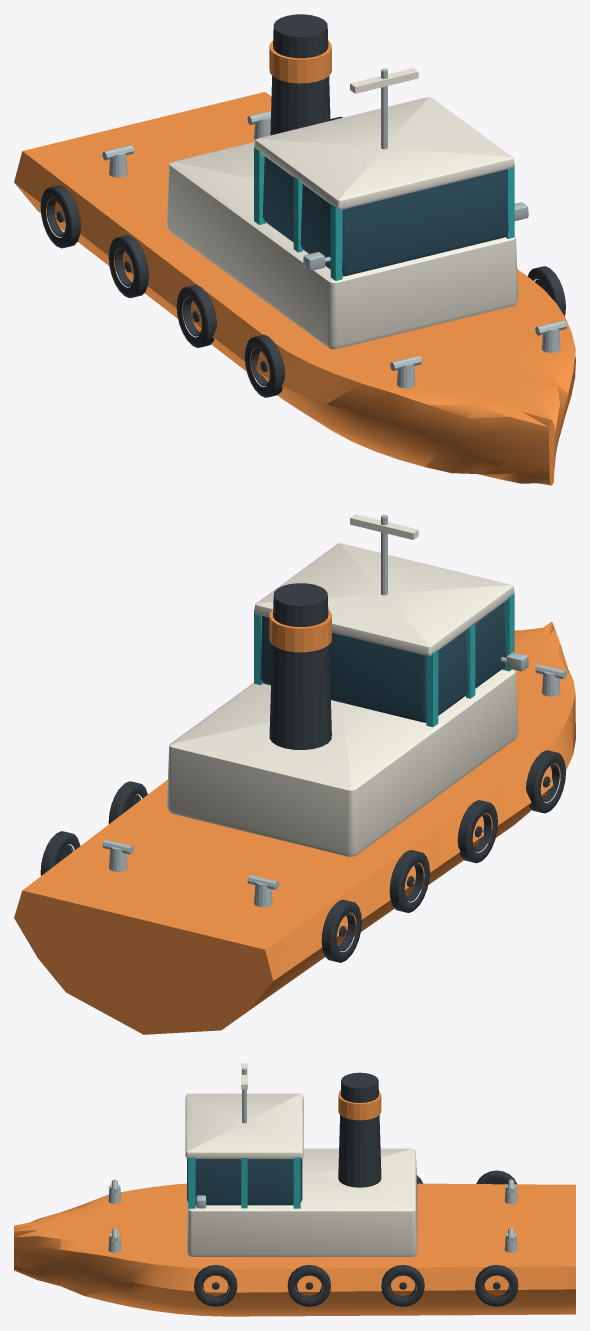
The model's file is air-land-sea-vehicles-harbour-tug-b1516d84__20031.glb.
The picture shows the model from 3 angles, top to bottom: view 1: azimuth 30°, elevation 25°; view 2: azimuth 150°, elevation 25°; view 3: azimuth 270°, elevation 25°; orthographic projection. The views are drawn at different scales.
Visible parts, largest first — view 1: harbour-tug, fender--1.55--2.8, fender--1.55--1.5, fender--1.55--0.2, fender--1.55-1.1, fender-1.55-1.1; view 2: harbour-tug, fender--1.55--1.5, fender--1.55--2.8, fender--1.55--0.2, fender--1.55-1.1, fender-1.55--2.8, fender-1.55--1.5; view 3: harbour-tug, fender-1.55--2.8, fender-1.55--1.5, fender-1.55--0.2, fender-1.55-1.1, fender--1.55--2.8.
Part boxes in pixels (x1,y1,x2,y2): harbour-tug: (14, 14, 575, 485); fender--1.55--2.8: (40, 185, 80, 248); fender--1.55--1.5: (108, 235, 148, 298); fender--1.55--0.2: (176, 285, 216, 347); fender--1.55-1.1: (244, 334, 284, 397); fender-1.55-1.1: (528, 266, 565, 316); harbour-tug: (14, 514, 575, 1034); fender--1.55--1.5: (389, 850, 429, 912); fender--1.55--2.8: (321, 899, 361, 962); fender--1.55--0.2: (457, 800, 497, 862); fender--1.55-1.1: (526, 750, 565, 813); fender-1.55--2.8: (40, 831, 80, 875); fender-1.55--1.5: (108, 781, 147, 823); harbour-tug: (14, 1063, 575, 1316); fender-1.55--2.8: (475, 1265, 518, 1306); fender-1.55--1.5: (381, 1265, 424, 1306); fender-1.55--0.2: (287, 1265, 330, 1306); fender-1.55-1.1: (194, 1265, 237, 1306); fender--1.55--2.8: (476, 1170, 516, 1184).
Size of the model in its own units: 3.22 by 3.61 by 7.8.
